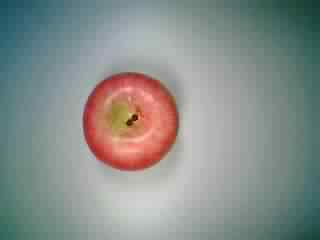apple: (79, 71, 184, 173)
